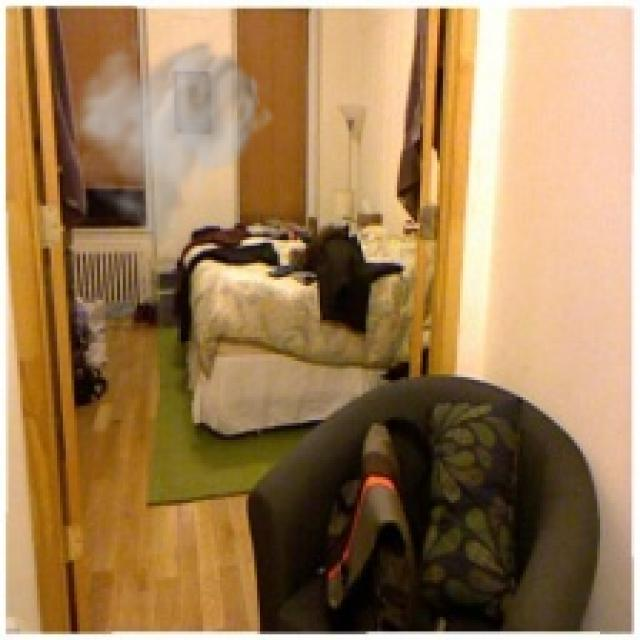smoke: (66, 20, 277, 257)
